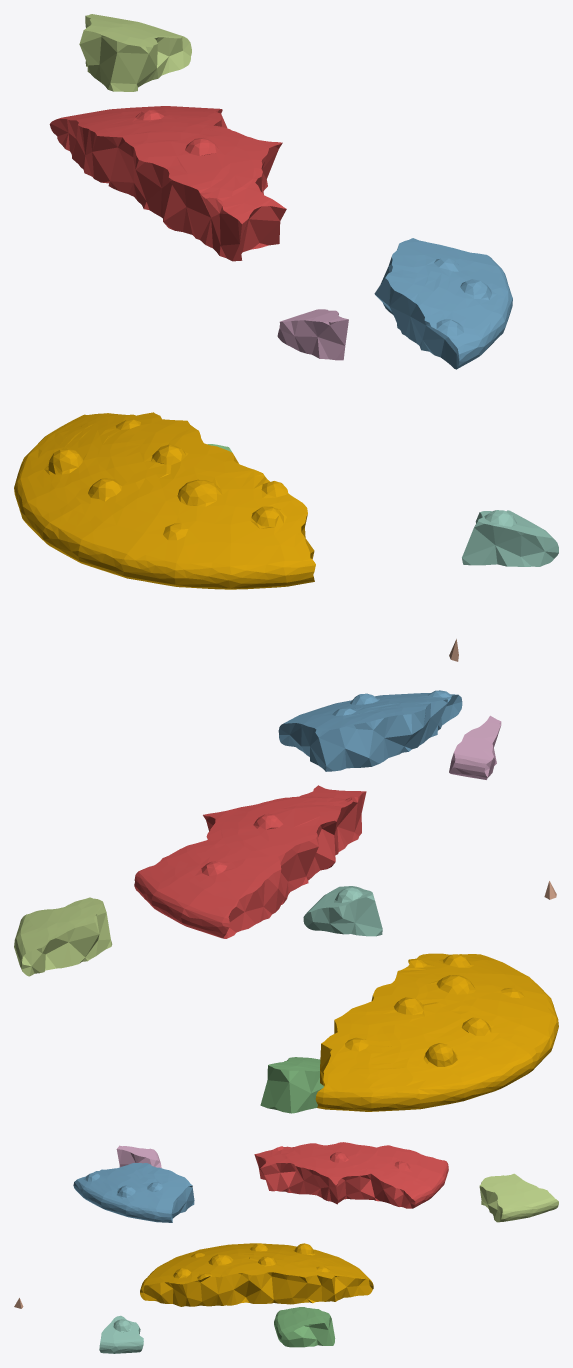
Rendered from fractured_70_8pcs_transformed.glb.
The picture shows the model from 3 angles, top to bottom: view 1: azimuth 30°, elevation 25°; view 2: azimuth 150°, elevation 25°; view 3: azimuth 270°, elevation 25°; orthographic projection. The views are drawn at different scales.
Visible parts, largest first — view 1: piece_0.obj, piece_1.obj, piece_2.obj, piece_5.obj, piece_4.obj, piece_6.obj; view 2: piece_0.obj, piece_1.obj, piece_2.obj, piece_5.obj, piece_4.obj, piece_3.obj, piece_6.obj; view 3: piece_0.obj, piece_1.obj, piece_2.obj, piece_5.obj, piece_3.obj, piece_4.obj, piece_6.obj.
Boxes of the visible parts, x1,y1,x2,y2 form: piece_0.obj: (14, 412, 315, 589); piece_1.obj: (49, 106, 286, 261); piece_2.obj: (374, 238, 512, 369); piece_5.obj: (79, 14, 191, 91); piece_4.obj: (462, 510, 558, 566); piece_6.obj: (277, 309, 348, 360); piece_0.obj: (315, 953, 558, 1111); piece_1.obj: (134, 785, 366, 938); piece_2.obj: (278, 690, 462, 771); piece_5.obj: (14, 897, 112, 976); piece_4.obj: (303, 886, 382, 936); piece_3.obj: (260, 1057, 323, 1113); piece_6.obj: (449, 715, 501, 779); piece_0.obj: (140, 1243, 373, 1306); piece_1.obj: (254, 1142, 448, 1208); piece_2.obj: (73, 1163, 194, 1222); piece_5.obj: (479, 1173, 558, 1222); piece_3.obj: (274, 1307, 335, 1347); piece_4.obj: (99, 1315, 143, 1353); piece_6.obj: (116, 1145, 161, 1167).
Size of the model in its own units: 0.999 by 0.8722 by 2.28.
